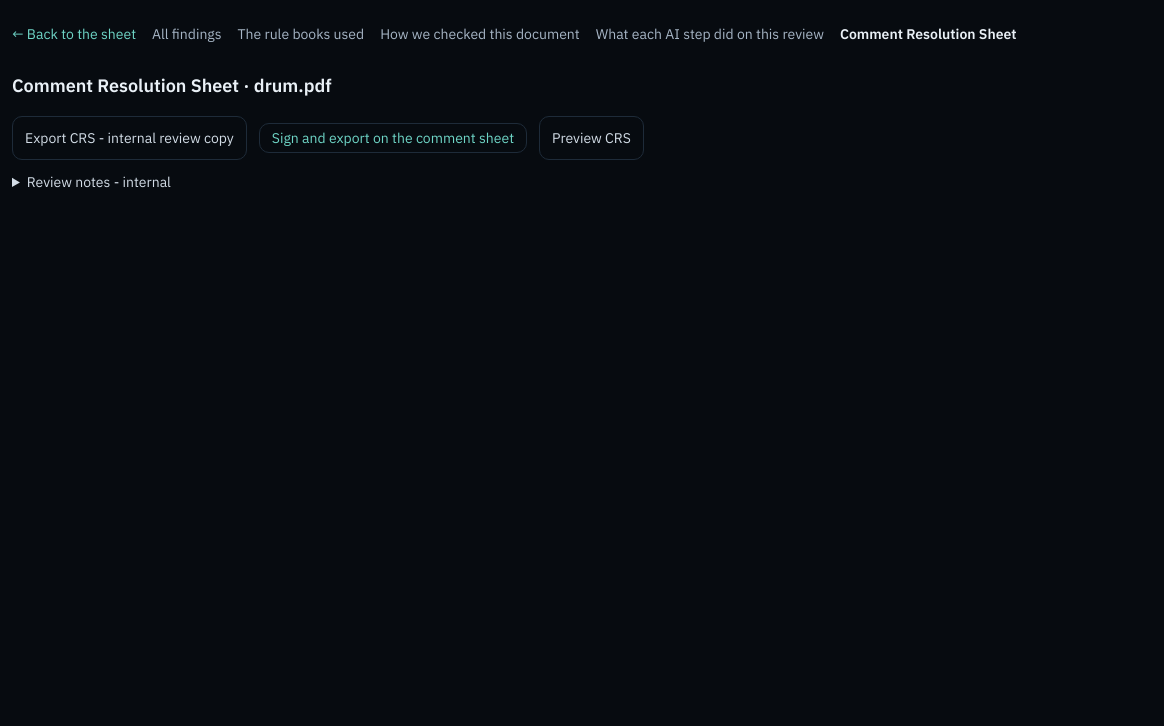
Scenario: the CRS preview › shows each row's reasoning when the internal copy carries the column (R30)
Click the button "Preview CRS" at (592, 138), box [539,116,644,160]
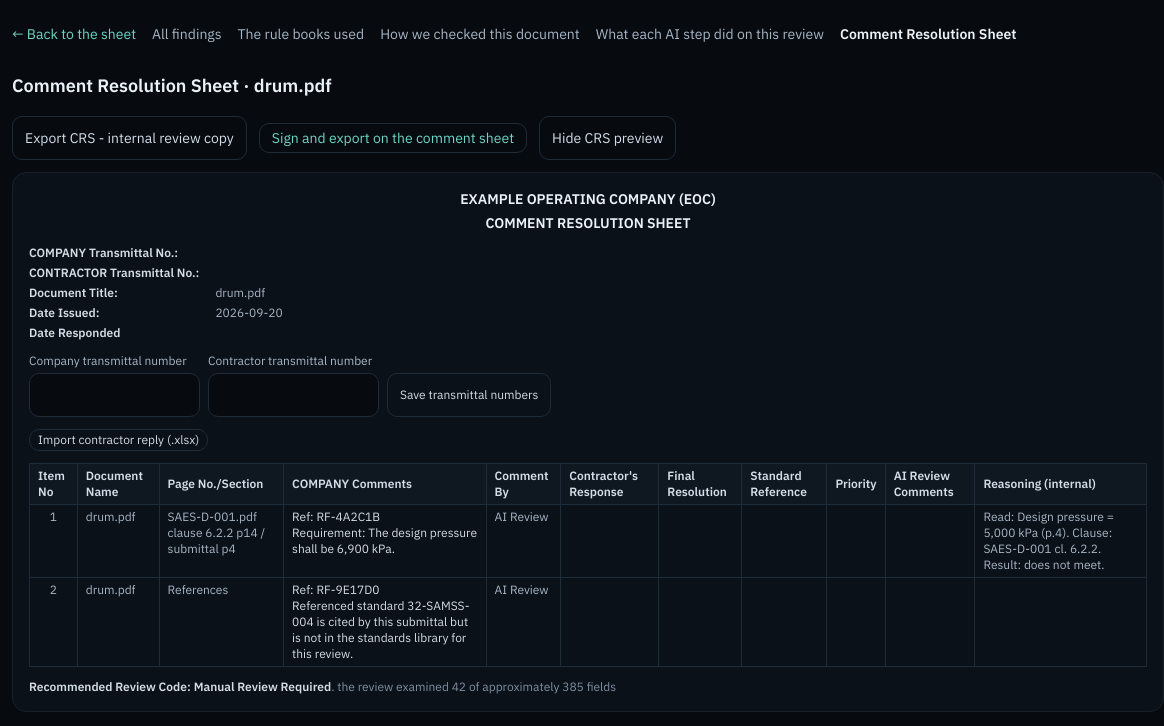
Check: the number of cells with test id "crs-reasoning" is 2, box [975,504,1146,578]; [975,578,1146,666]
Check: the cell with test id "crs-reasoning" shows "Result: does not meet", box [983,509,1114,572]
